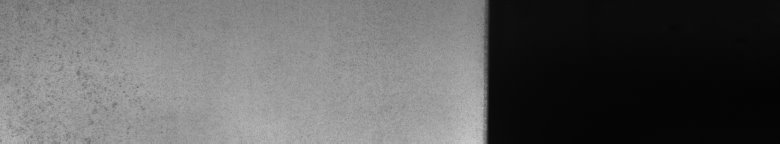ib: (20, 4, 148, 128)
